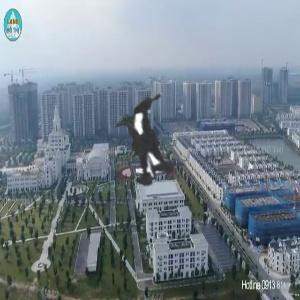drone: (20, 18, 278, 276)
